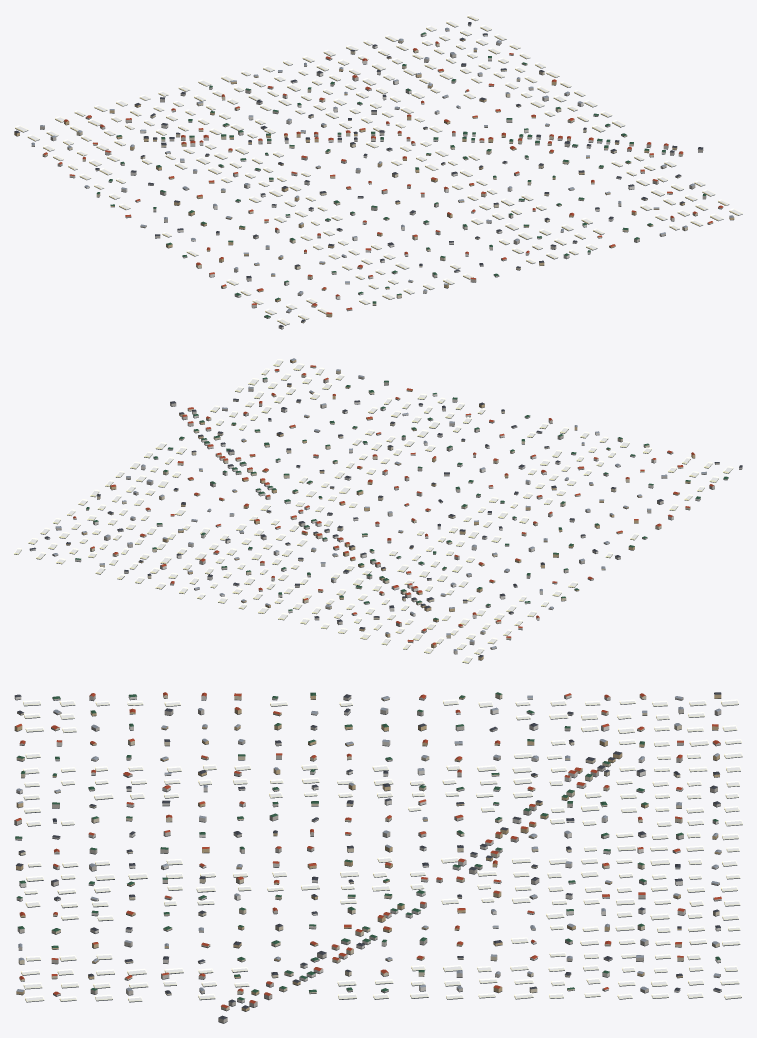
The model's file is buildings_T_E06_S02.glb.
The picture shows the model from 3 angles, top to bottom: view 1: azimuth 30°, elevation 25°; view 2: azimuth 150°, elevation 25°; view 3: azimuth 270°, elevation 25°; orthographic projection. The views are drawn at different scales.
Visible parts, largest first — view 1: T_E06_S02_roofs_agri_greenhouse_arch, T_E06_S02_slope_seating_foundations, T_E06_S02_walls_wall_pastel_sand_gray, T_E06_S02_walls_wall_modern_warm_white, T_E06_S02_roofs_roof_terracotta_gable, T_E06_S02_walls_wall_dalat_cream_stucco, T_E06_S02_roofs_roof_pine_green_hip, T_E06_S02_walls_wall_french_ochre_villa, T_E06_S02_roofs_roof_slate_French_villa_hip, T_E06_S02_roofs_roof_zinc_silver_gable; view 2: T_E06_S02_roofs_agri_greenhouse_arch, T_E06_S02_slope_seating_foundations, T_E06_S02_walls_wall_pastel_sand_gray, T_E06_S02_walls_wall_modern_warm_white, T_E06_S02_walls_wall_dalat_cream_stucco, T_E06_S02_roofs_roof_terracotta_gable, T_E06_S02_walls_wall_french_ochre_villa, T_E06_S02_roofs_roof_pine_green_hip, T_E06_S02_roofs_roof_slate_French_villa_hip, T_E06_S02_roofs_roof_zinc_silver_gable; view 3: T_E06_S02_roofs_agri_greenhouse_arch, T_E06_S02_slope_seating_foundations, T_E06_S02_walls_wall_pastel_sand_gray, T_E06_S02_walls_wall_modern_warm_white, T_E06_S02_walls_wall_dalat_cream_stucco, T_E06_S02_roofs_roof_terracotta_gable, T_E06_S02_walls_wall_french_ochre_villa, T_E06_S02_roofs_roof_pine_green_hip, T_E06_S02_roofs_roof_slate_French_villa_hip, T_E06_S02_roofs_roof_zinc_silver_gable.
Boxes of the visible parts, bbox=[...] form: T_E06_S02_roofs_agri_greenhouse_arch: bbox=[15, 14, 742, 324]; T_E06_S02_slope_seating_foundations: bbox=[15, 16, 742, 329]; T_E06_S02_walls_wall_pastel_sand_gray: bbox=[32, 29, 723, 318]; T_E06_S02_walls_wall_modern_warm_white: bbox=[69, 24, 665, 328]; T_E06_S02_roofs_roof_terracotta_gable: bbox=[43, 41, 722, 313]; T_E06_S02_walls_wall_dalat_cream_stucco: bbox=[42, 40, 713, 322]; T_E06_S02_roofs_roof_pine_green_hip: bbox=[96, 32, 706, 317]; T_E06_S02_walls_wall_french_ochre_villa: bbox=[14, 39, 734, 316]; T_E06_S02_roofs_roof_slate_French_villa_hip: bbox=[14, 22, 703, 326]; T_E06_S02_roofs_roof_zinc_silver_gable: bbox=[31, 27, 733, 311]; T_E06_S02_roofs_agri_greenhouse_arch: bbox=[14, 359, 733, 662]; T_E06_S02_slope_seating_foundations: bbox=[14, 361, 741, 663]; T_E06_S02_walls_wall_pastel_sand_gray: bbox=[52, 369, 728, 653]; T_E06_S02_walls_wall_modern_warm_white: bbox=[29, 394, 742, 620]; T_E06_S02_walls_wall_dalat_cream_stucco: bbox=[86, 366, 719, 639]; T_E06_S02_roofs_roof_terracotta_gable: bbox=[73, 365, 713, 644]; T_E06_S02_walls_wall_french_ochre_villa: bbox=[66, 360, 695, 660]; T_E06_S02_roofs_roof_pine_green_hip: bbox=[75, 377, 728, 619]; T_E06_S02_roofs_roof_slate_French_villa_hip: bbox=[30, 383, 742, 657]; T_E06_S02_roofs_roof_zinc_silver_gable: bbox=[53, 358, 706, 650]; T_E06_S02_roofs_agri_greenhouse_arch: bbox=[21, 699, 742, 1001]; T_E06_S02_slope_seating_foundations: bbox=[14, 696, 742, 1023]; T_E06_S02_walls_wall_pastel_sand_gray: bbox=[14, 695, 721, 1023]; T_E06_S02_walls_wall_modern_warm_white: bbox=[14, 694, 721, 1002]; T_E06_S02_walls_wall_dalat_cream_stucco: bbox=[16, 693, 719, 1010]; T_E06_S02_roofs_roof_terracotta_gable: bbox=[14, 692, 721, 1008]; T_E06_S02_walls_wall_french_ochre_villa: bbox=[14, 694, 721, 1011]; T_E06_S02_roofs_roof_pine_green_hip: bbox=[15, 692, 720, 1000]; T_E06_S02_roofs_roof_slate_French_villa_hip: bbox=[14, 692, 721, 1019]; T_E06_S02_roofs_roof_zinc_silver_gable: bbox=[16, 695, 721, 992].
Size of the model in its own units: 1859 by 27.42 by 1753.
